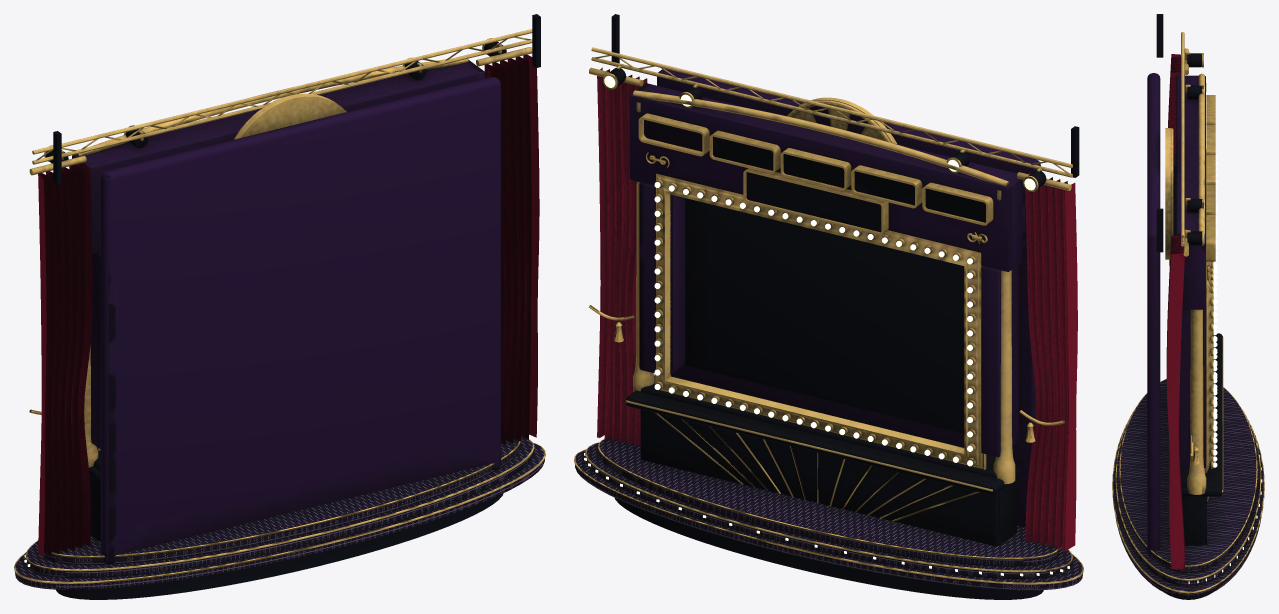
The picture shows the model from 3 angles, left to right: view 1: azimuth 30°, elevation 25°; view 2: azimuth 150°, elevation 25°; view 3: azimuth 270°, elevation 25°; orthographic projection. The views are drawn at different scales.
Visible parts, largest first — view 1: Midnight_lacquer, Ruby_velvet, Stage_LED_tessellation, Champagne_polished_gold, Even_black_glass; view 2: Even_black_glass, Champagne_polished_gold, Midnight_lacquer, Ruby_velvet, Stage_LED_tessellation, Warm_marquee_glow; view 3: Stage_LED_tessellation, Midnight_lacquer, Champagne_polished_gold, Ruby_velvet, Even_black_glass, Warm_marquee_glow.
Part boxes in pixels (x1=…): Midnight_lacquer: x1=72, y1=59, x2=500, y2=564; Ruby_velvet: x1=38, y1=54, x2=539, y2=557; Stage_LED_tessellation: x1=15, y1=436, x2=544, y2=589; Champagne_polished_gold: x1=14, y1=29, x2=545, y2=583; Even_black_glass: x1=46, y1=14, x2=540, y2=599; Even_black_glass: x1=608, y1=14, x2=1079, y2=599; Champagne_polished_gold: x1=574, y1=47, x2=1083, y2=584; Midnight_lacquer: x1=629, y1=69, x2=1040, y2=527; Ruby_velvet: x1=597, y1=67, x2=1077, y2=551; Stage_LED_tessellation: x1=575, y1=437, x2=1082, y2=590; Warm_marquee_glow: x1=584, y1=76, x2=1069, y2=576; Stage_LED_tessellation: x1=1113, y1=379, x2=1263, y2=598; Midnight_lacquer: x1=1147, y1=73, x2=1205, y2=556; Champagne_polished_gold: x1=1112, y1=32, x2=1264, y2=593; Ruby_velvet: x1=1166, y1=54, x2=1185, y2=569; Even_black_glass: x1=1156, y1=14, x2=1222, y2=599; Warm_marquee_glow: x1=1188, y1=55, x2=1262, y2=583.
Size of the model in its own units: 11.48 by 10 by 3.47.
6 materials, 5 textured.
